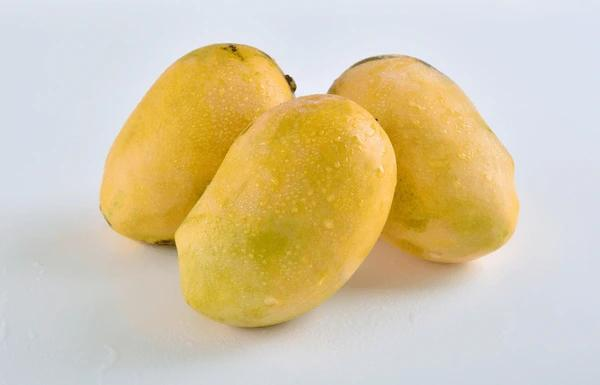mango: (173, 92, 398, 328), (326, 52, 519, 264), (98, 41, 296, 246)
